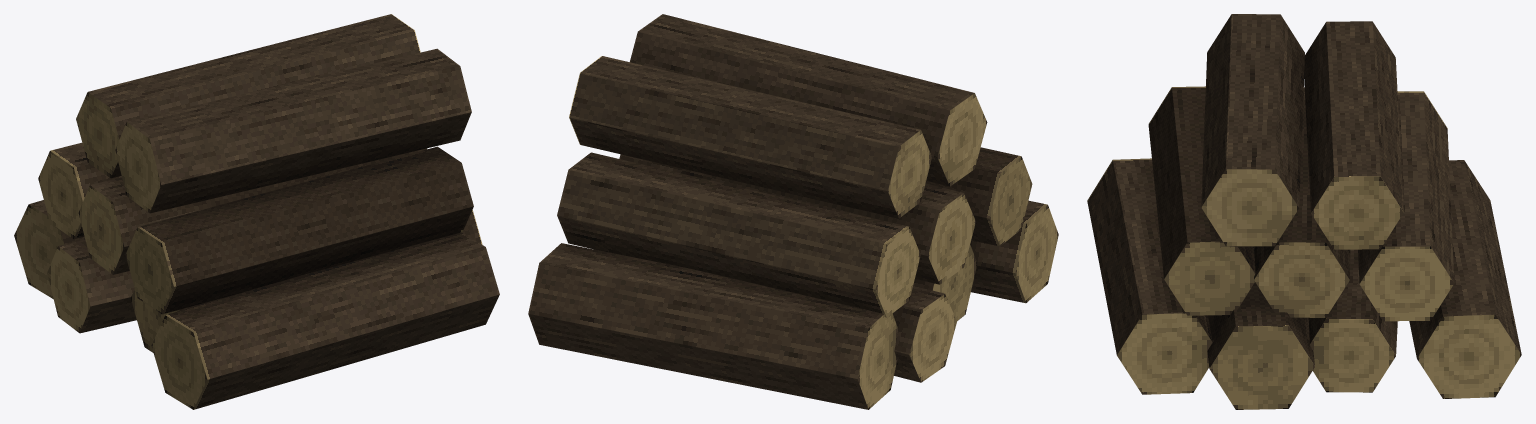
File: Firewood_Pile_01.glb
3 views of the same model, side by side, from view 1: azimuth 30°, elevation 25°; view 2: azimuth 150°, elevation 25°; view 3: azimuth 270°, elevation 25° (orthographic). The views are drawn at different scales.
Parts seen in each view (by area): view 1: Firewood_Pile_01; view 2: Firewood_Pile_01; view 3: Firewood_Pile_01.
Part boxes in pixels (x1,y1,x2,y2): Firewood_Pile_01: (14,14,499,409); Firewood_Pile_01: (528,14,1058,409); Firewood_Pile_01: (1087,14,1521,409).
Bounding box in the file's own units: 0.617 × 0.3852 × 0.6504.
Materials: 1 (1 with a texture image).
